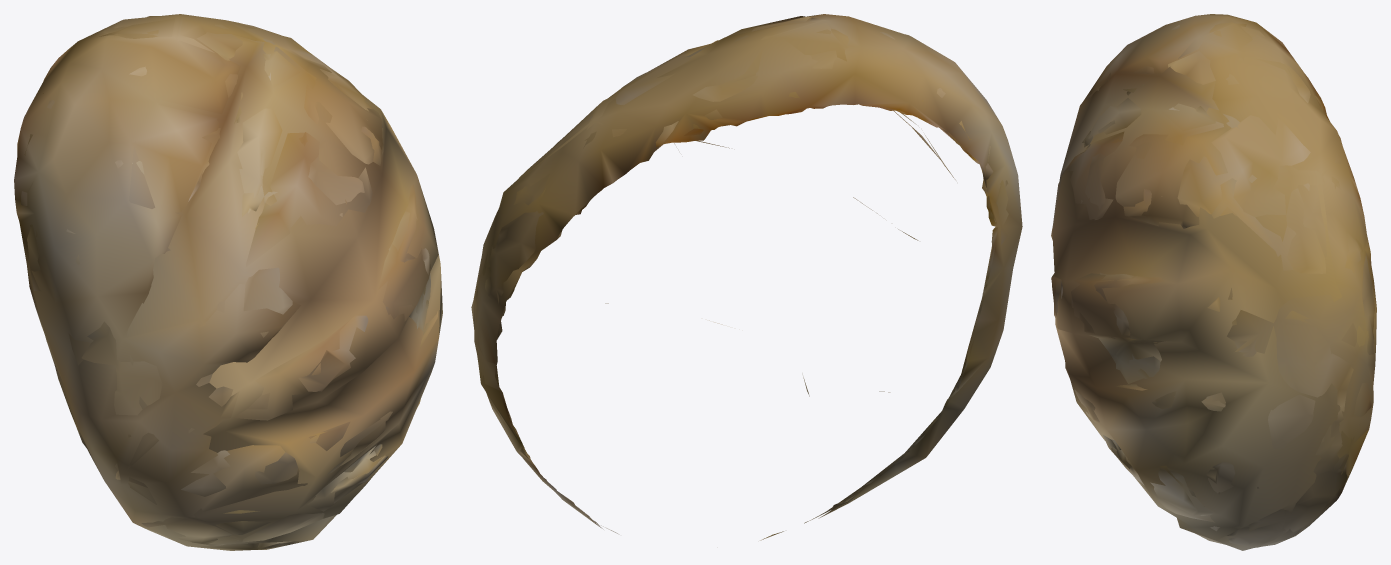
File: imp-bread.glb
3 views of the same model, side by side, from view 1: azimuth 30°, elevation 25°; view 2: azimuth 150°, elevation 25°; view 3: azimuth 270°, elevation 25° (orthographic). The views are drawn at different scales.
Parts seen in each view (by area): view 1: Model228_material0_0 (×3); view 2: Model228_material0_0 (×3); view 3: Model228_material0_0 (×3).
Part boxes in pixels (x1,y1,x2,y2): Model228_material0_0 (×3): [14, 14, 442, 550]; Model228_material0_0 (×3): [471, 14, 1022, 540]; Model228_material0_0 (×3): [1051, 14, 1376, 550].
Size of the model in its own units: 0.2585 by 0.3 by 0.1961.
